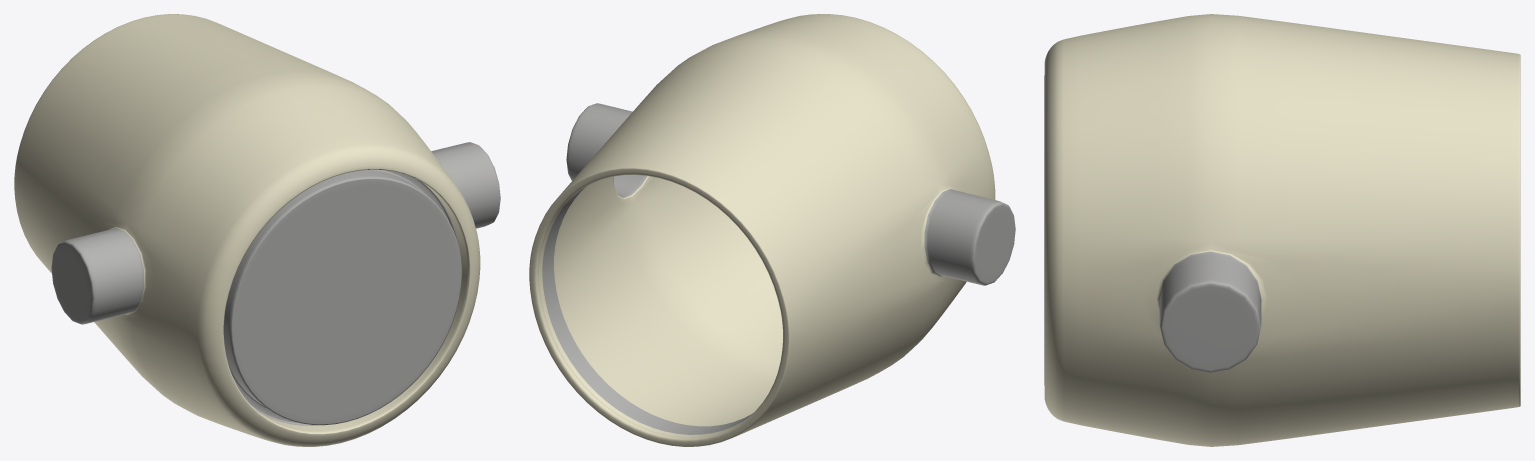
File: cannon.glb
3 views of the same model, side by side, from view 1: azimuth 30°, elevation 25°; view 2: azimuth 150°, elevation 25°; view 3: azimuth 270°, elevation 25° (orthographic). The views are drawn at different scales.
Visible parts, largest first — view 1: Circle.001; view 2: Circle.001; view 3: Circle.001.
Boxes of the visible parts, left/top/right/bottom form: Circle.001: left=14, top=14, right=500, bottom=446; Circle.001: left=529, top=14, right=1015, bottom=446; Circle.001: left=1044, top=14, right=1520, bottom=446.
Bounding box in the file's own units: 0.253 × 0.1979 × 0.2175.
